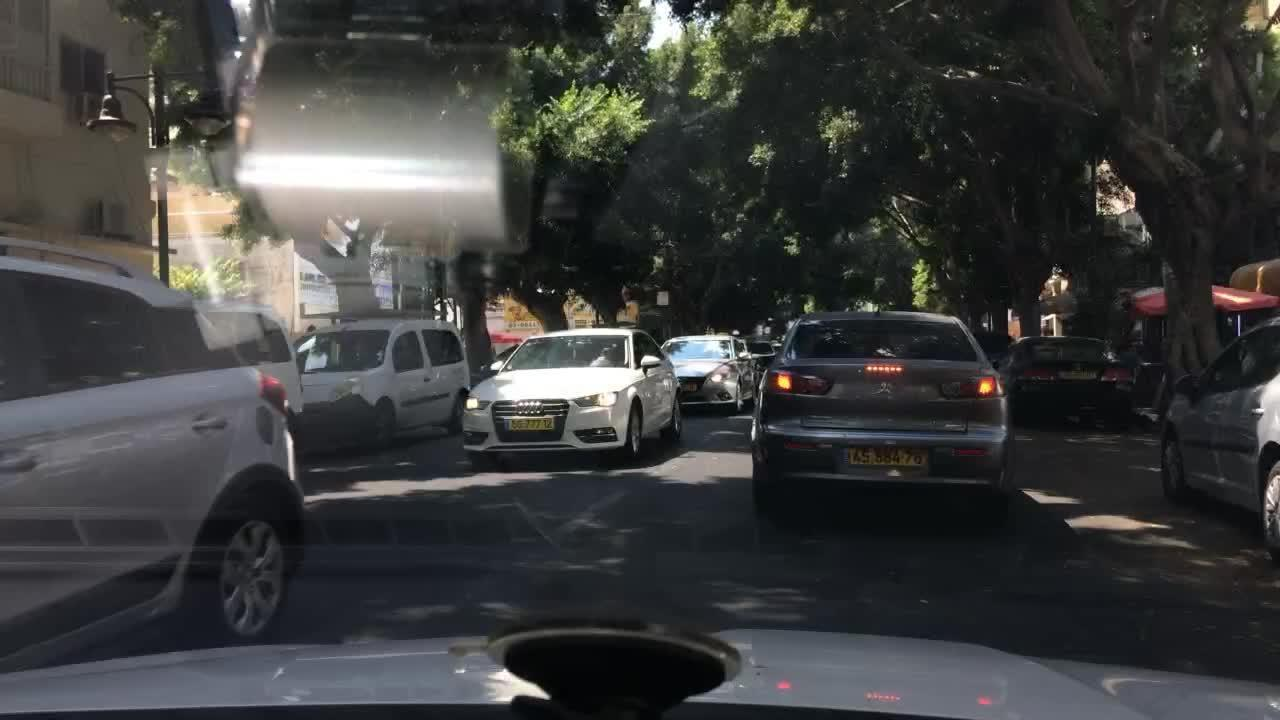Mitsubishi: (874, 378, 903, 404)
